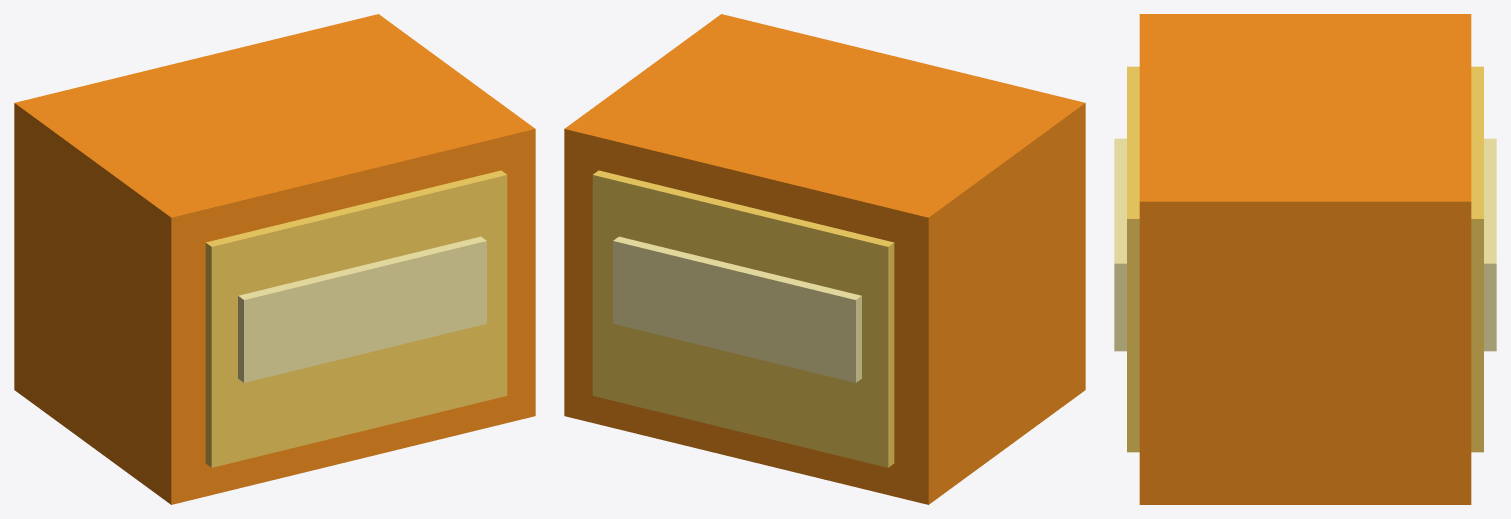
The model's file is RouteBarricadeLamp.obj.
3 views of the same model, side by side, from view 1: azimuth 30°, elevation 25°; view 2: azimuth 150°, elevation 25°; view 3: azimuth 270°, elevation 25° (orthographic). The views are drawn at different scales.
Parts seen in each view (by area): view 1: RouteBarricadeLamp; view 2: RouteBarricadeLamp; view 3: RouteBarricadeLamp.
Part boxes in pixels (x1,y1,x2,y2): RouteBarricadeLamp: (14,14,535,504); RouteBarricadeLamp: (564,14,1085,504); RouteBarricadeLamp: (1114,14,1496,504).
Size of the model in its own units: 1.38 by 1.04 by 1.19.
1 material, 1 textured.
